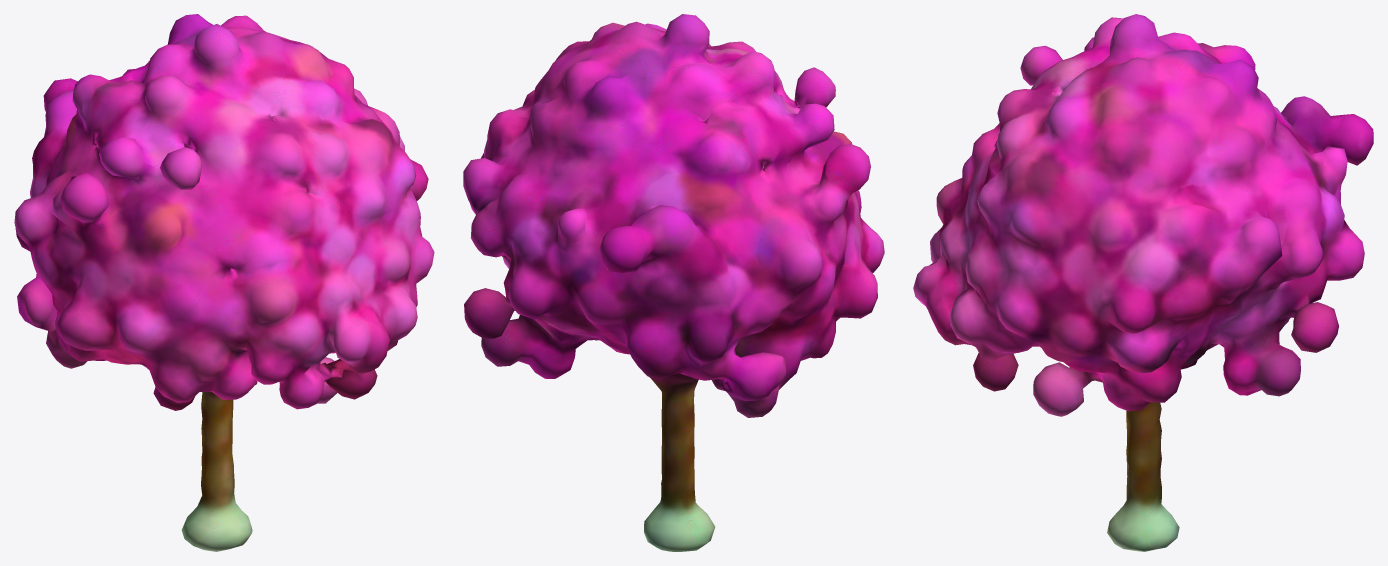
The model's file is pinktree.fbx.
3 renders of one model, left to right at view 1: azimuth 30°, elevation 25°; view 2: azimuth 150°, elevation 25°; view 3: azimuth 270°, elevation 25°, orthographic.
Parts seen in each view (by area): view 1: Mesh1; view 2: Mesh1; view 3: Mesh1.
Part boxes in pixels (bbox=[...]): Mesh1: bbox=[14, 14, 434, 551]; Mesh1: bbox=[463, 14, 884, 551]; Mesh1: bbox=[913, 14, 1373, 551].
Bounding box in the file's own units: 90.57 × 120 × 94.7.
1 material, 1 textured.
